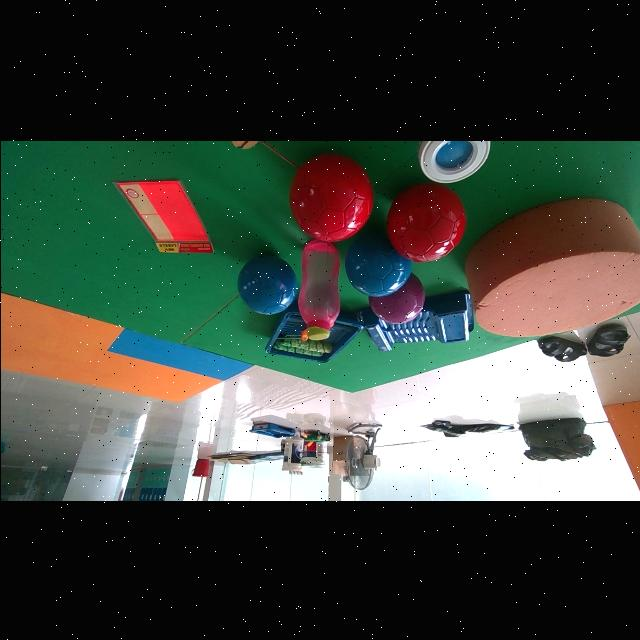B: (344, 232, 411, 296), (237, 254, 296, 313)
P: (368, 273, 425, 323)
R: (288, 153, 373, 242), (386, 182, 465, 261)
